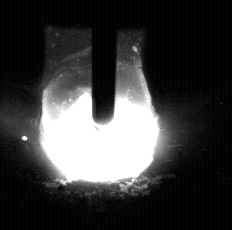arame: (93, 0, 117, 132)
poca: (39, 0, 161, 230)
